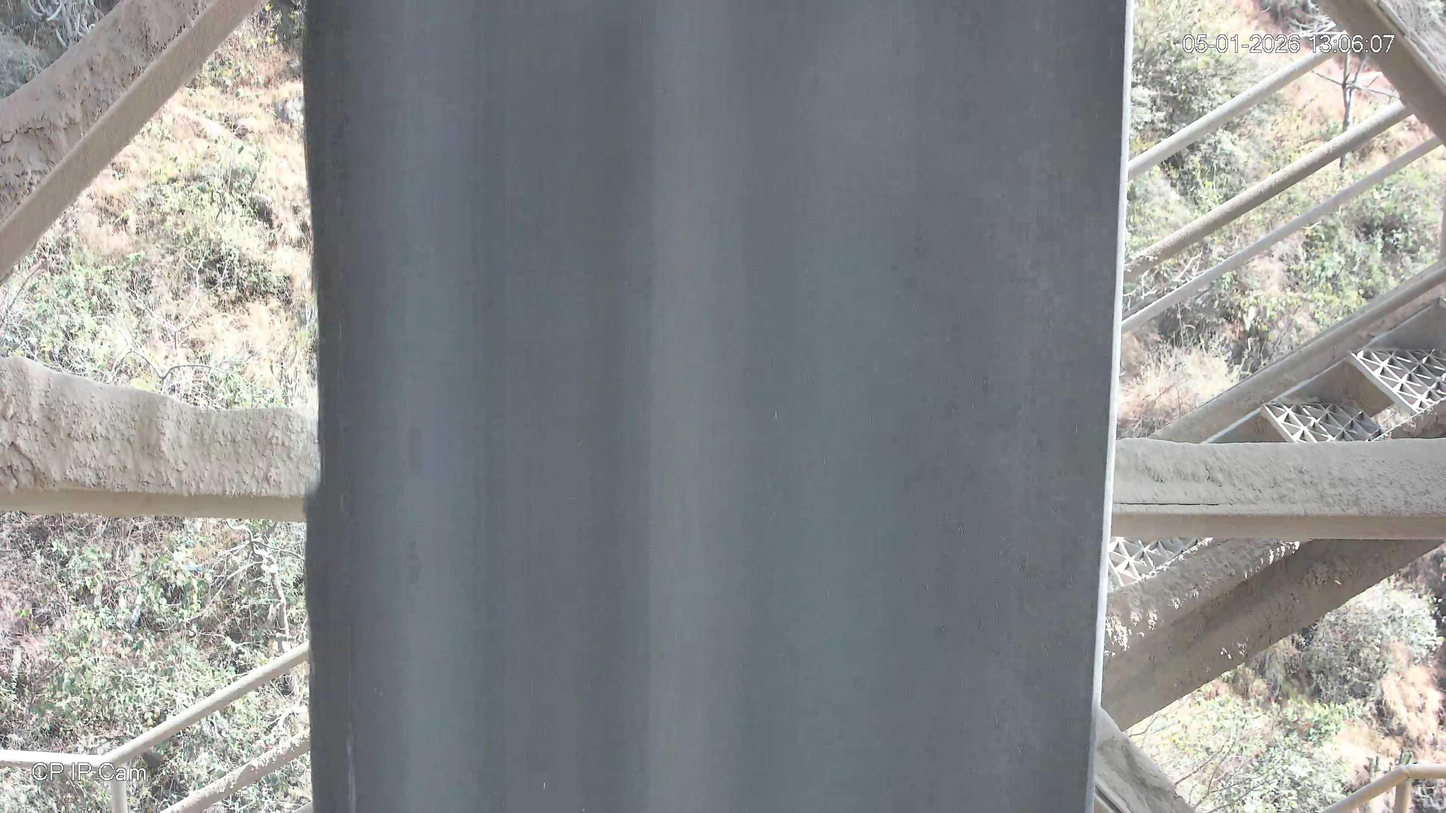belt_roi: (305, 0, 1130, 813)
